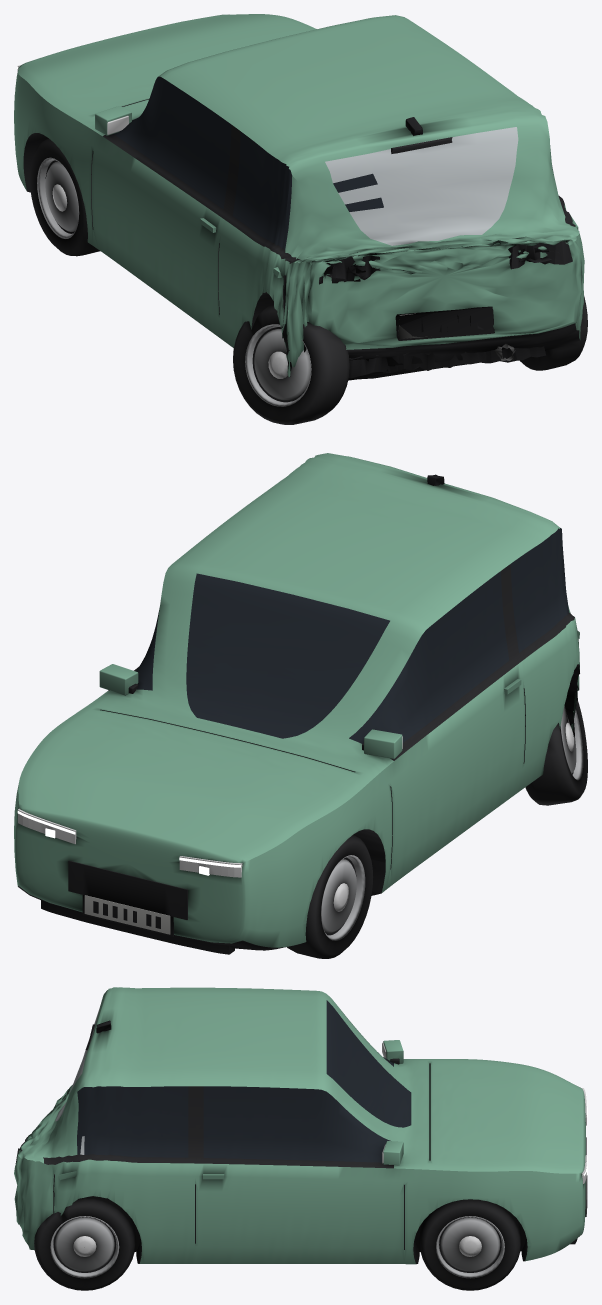
File: t_hatch_wreck.glb
The picture shows the model from 3 angles, top to bottom: view 1: azimuth 30°, elevation 25°; view 2: azimuth 150°, elevation 25°; view 3: azimuth 270°, elevation 25°; orthographic projection. The views are drawn at different scales.
Parts seen in each view (by area): view 1: Body, Wheel_RL, Details, Wheel_FL, Wheel_RR, Rounded; view 2: Body, Details, Wheel_FL, Wheel_RL, Rounded; view 3: Body, Wheel_FR, Wheel_RR, Rounded, Details.
Part boxes in pixels (x1,y1,x2,y2): Body: (14,14,584,380); Wheel_RL: (233,304,349,424); Details: (17,14,578,378); Wheel_FL: (29,138,100,256); Wheel_RR: (519,296,587,370); Rounded: (95,106,422,135); Body: (14,453,579,950); Details: (17,631,579,954); Wheel_FL: (287,835,373,958); Wheel_RL: (525,700,587,805); Rounded: (99,474,444,758); Body: (14,987,585,1264); Wheel_FR: (419,1199,520,1290); Wheel_RR: (34,1196,135,1290); Rounded: (96,1020,403,1165); Details: (15,1024,587,1244).
Size of the model in its own units: 1.84 by 1.63 by 3.72.
